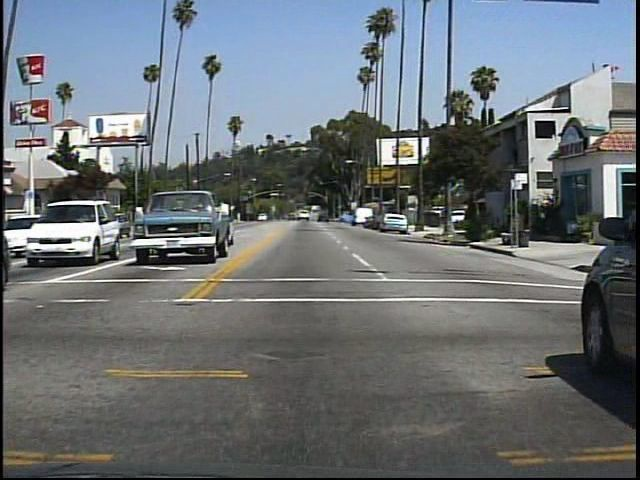person: (481, 199, 504, 245)
